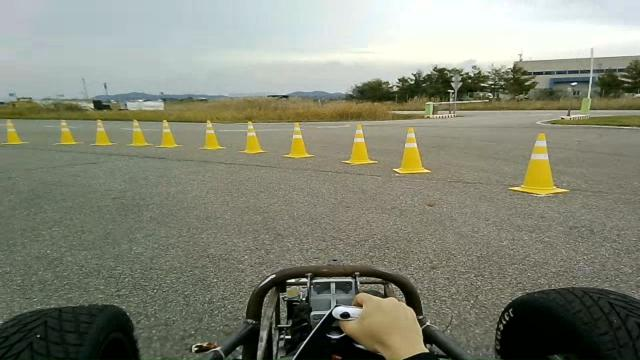yellow cone: (508, 132, 570, 196), (392, 126, 431, 174), (341, 124, 378, 165), (282, 122, 314, 158), (238, 120, 268, 154), (198, 119, 226, 150), (155, 118, 182, 148), (52, 119, 82, 145), (89, 118, 116, 146), (1, 118, 28, 145), (126, 119, 152, 146)
